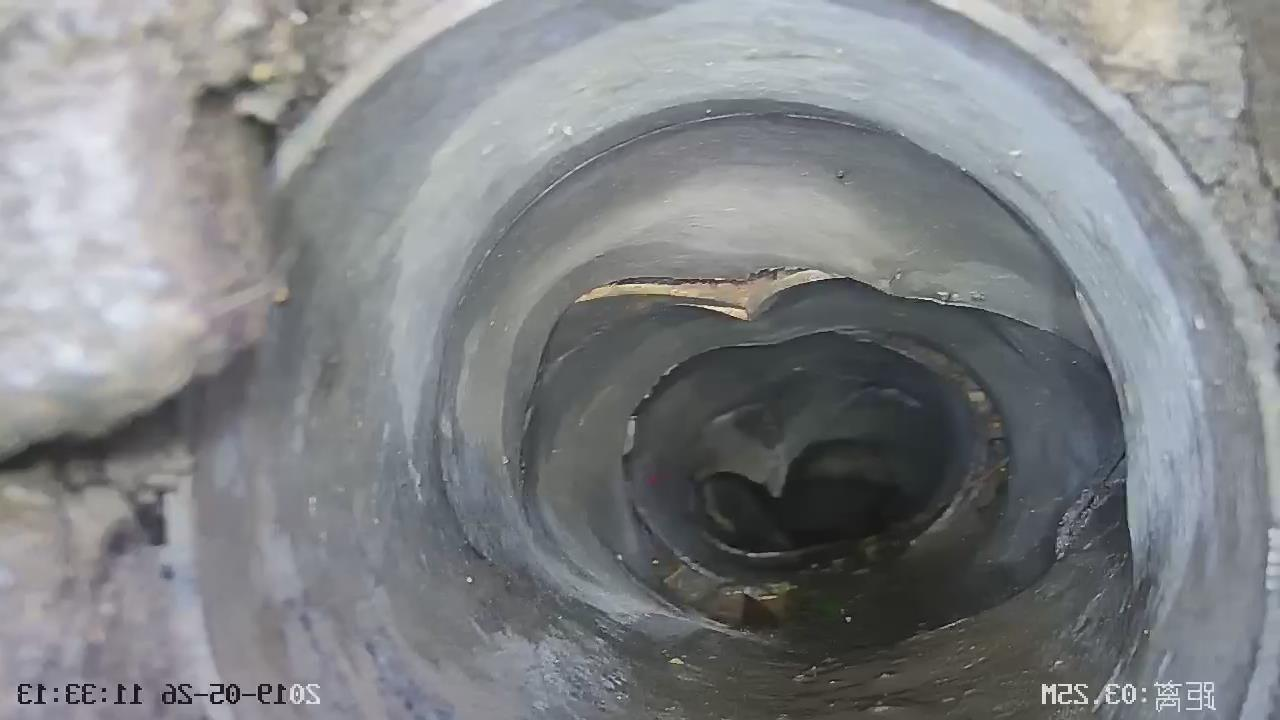PL: (566, 242, 843, 344)
